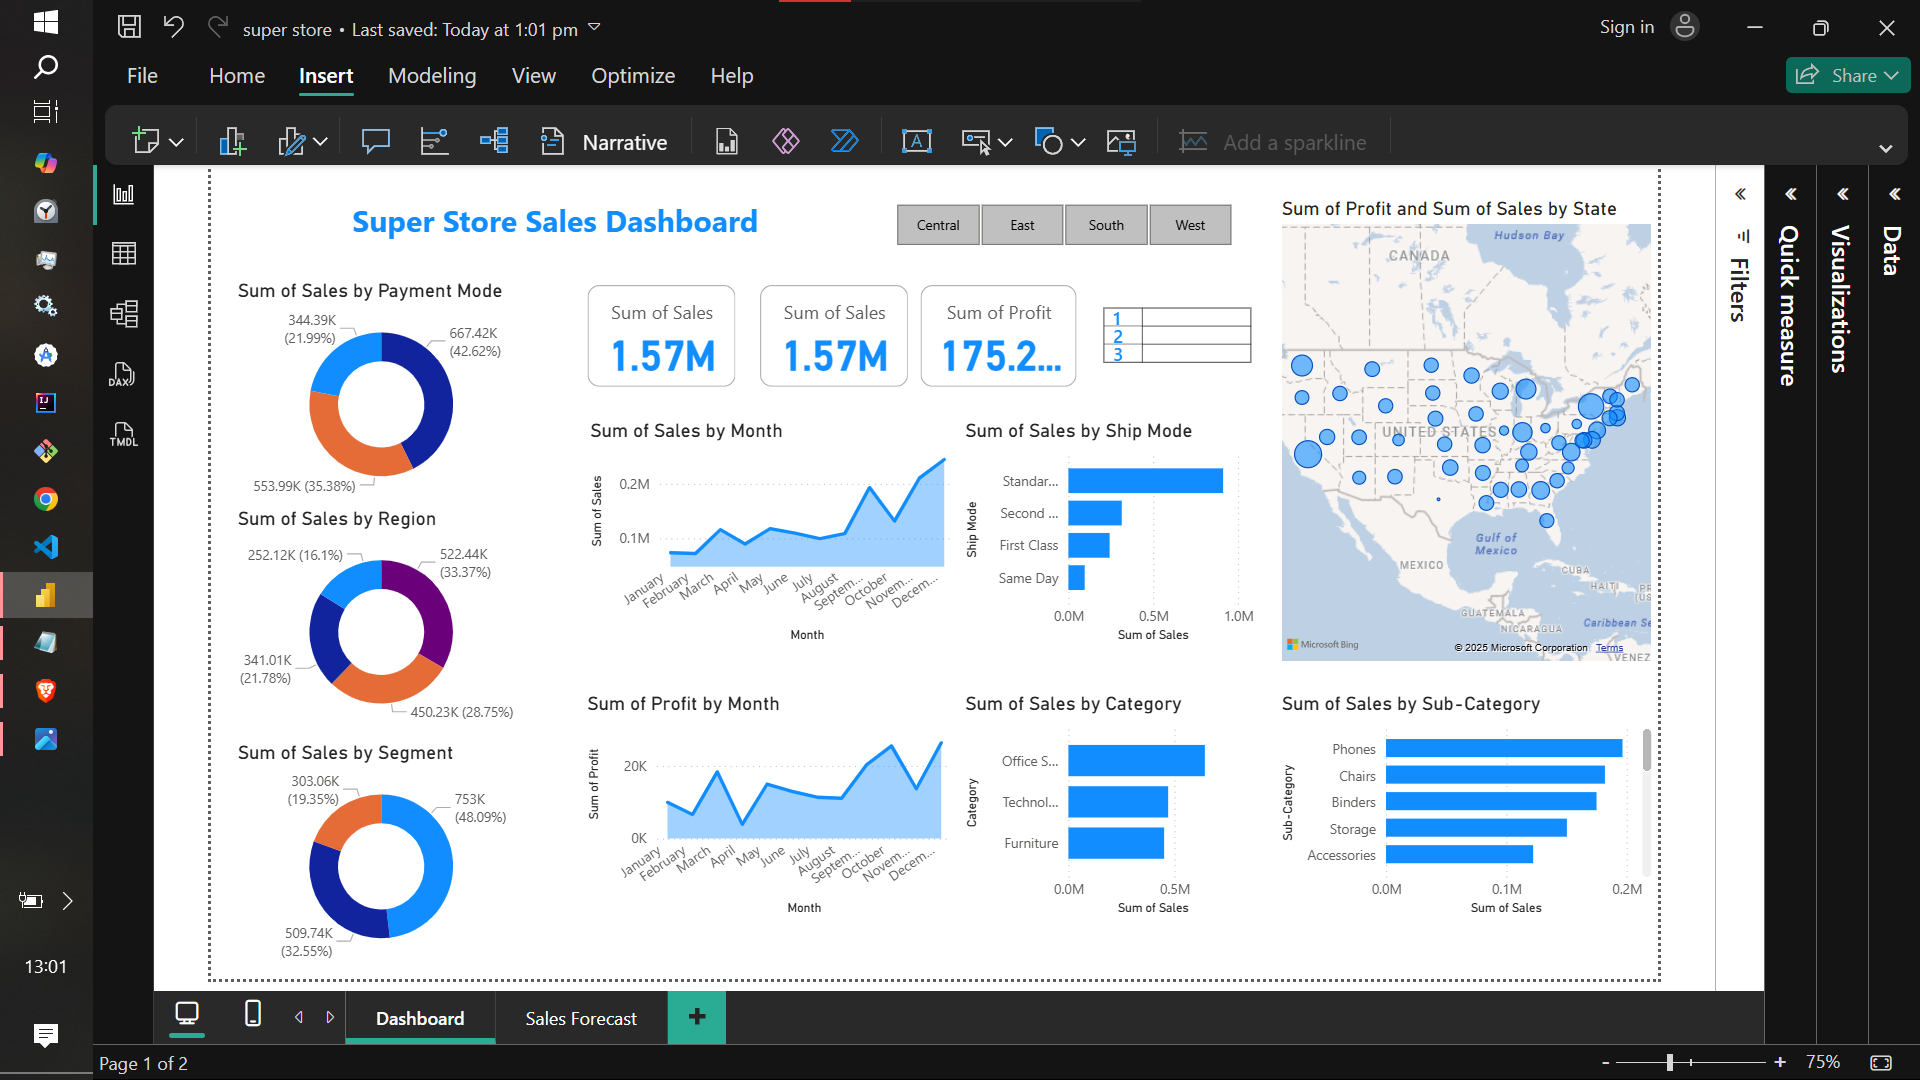

What the dashboard file says about the page in this screenshot:
{"tool":"powerbi","page":{"name":"Dashboard","canvas":[1280,720],"ordinal":0},"visuals":[{"type":"slicer","fields":{"Values":["SuperStore_Sales_Dataset.Region"]},"box":[581.3,27.4,345.4,49.6],"z":1000},{"type":"map","fields":{"Size":["Sum(SuperStore_Sales_Dataset.Profit)"],"Category":["SuperStore_Sales_Dataset.State"]},"box":[942.1,27.5,337.4,416],"z":2000},{"type":"donutChart","fields":{"Y":["Sum(SuperStore_Sales_Dataset.Sales)"],"Category":["SuperStore_Sales_Dataset.Payment Mode"]},"box":[18.8,101.1,263.3,201.7],"z":2001},{"type":"donutChart","fields":{"Category":["SuperStore_Sales_Dataset.Segment"],"Y":["Sum(SuperStore_Sales_Dataset.Sales)"]},"box":[18.8,509.5,263.3,201.7],"z":2003},{"type":"donutChart","fields":{"Y":["Sum(SuperStore_Sales_Dataset.Sales)"],"Category":["SuperStore_Sales_Dataset.Region"]},"box":[18.8,302.8,263.3,201],"z":2004},{"type":"cardVisual","fields":{"Data":["Sum(SuperStore_Sales_Dataset.Sales)"]},"box":[480.4,100.9,141.9,100.9],"z":2006},{"type":"cardVisual","fields":{"Data":["Sum(SuperStore_Sales_Dataset.Sales)"]},"box":[327.7,100.8,142,100.8],"z":2007},{"type":"cardVisual","fields":{"Rows":["SuperStore_Sales_Dataset.Ship Date.Variation.Date Hierarchy.Day"]},"box":[784.1,100.8,142,100.8],"z":2008},{"type":"cardVisual","fields":{"Data":["Sum(SuperStore_Sales_Dataset.Profit)"]},"box":[622.3,100.9,148.7,100.9],"z":2009},{"type":"stackedAreaChart","fields":{"Category":["SuperStore_Sales_Dataset.Order Date.Variation.Date Hierarchy.Month"],"Y":["Sum(SuperStore_Sales_Dataset.Sales)"]},"box":[330,224,331.7,201.7],"z":2010},{"type":"barChart","fields":{"Category":["SuperStore_Sales_Dataset.Ship Mode"],"Y":["Sum(SuperStore_Sales_Dataset.Sales)"]},"box":[661.7,224,265,201.7],"z":2011},{"type":"barChart","fields":{"Category":["SuperStore_Sales_Dataset.Category"],"Y":["Sum(SuperStore_Sales_Dataset.Sales)"]},"box":[661.7,465,265,201.7],"z":2012},{"type":"stackedAreaChart","fields":{"Category":["SuperStore_Sales_Dataset.Order Date.Variation.Date Hierarchy.Month"],"Y":["Sum(SuperStore_Sales_Dataset.Profit)"]},"box":[328.3,465,331.7,201.7],"z":2013},{"type":"barChart","fields":{"Category":["SuperStore_Sales_Dataset.Sub-Category"],"Y":["Sum(SuperStore_Sales_Dataset.Sales)"]},"box":[942.1,465,336.8,201.7],"z":2014},{"type":"textbox","box":[28.3,25.4,553.4,50.7],"z":2015}]}

Visuals, with their boxes on the page's 1280x720 design canvas (x1, y1, x2, y2). These are canvas units, not pixel positions in the 1920x1080 screenshot, which may show the page scaled, cropped or inside an application window:
slicer - SuperStore_Sales_Dataset.Region: [left=581, top=27, right=927, bottom=77]
map - Sum(SuperStore_Sales_Dataset.Profit) x SuperStore_Sales_Dataset.State: [left=942, top=28, right=1280, bottom=444]
donutChart - Sum(SuperStore_Sales_Dataset.Sales) x SuperStore_Sales_Dataset.Payment Mode: [left=19, top=101, right=282, bottom=303]
donutChart - SuperStore_Sales_Dataset.Segment x Sum(SuperStore_Sales_Dataset.Sales): [left=19, top=510, right=282, bottom=711]
donutChart - Sum(SuperStore_Sales_Dataset.Sales) x SuperStore_Sales_Dataset.Region: [left=19, top=303, right=282, bottom=504]
cardVisual - Sum(SuperStore_Sales_Dataset.Sales): [left=480, top=101, right=622, bottom=202]
cardVisual - Sum(SuperStore_Sales_Dataset.Sales): [left=328, top=101, right=470, bottom=202]
cardVisual - SuperStore_Sales_Dataset.Ship Date.Variation.Date Hierarchy.Day: [left=784, top=101, right=926, bottom=202]
cardVisual - Sum(SuperStore_Sales_Dataset.Profit): [left=622, top=101, right=771, bottom=202]
stackedAreaChart - SuperStore_Sales_Dataset.Order Date.Variation.Date Hierarchy.Month x Sum(SuperStore_Sales_Dataset.Sales): [left=330, top=224, right=662, bottom=426]
barChart - SuperStore_Sales_Dataset.Ship Mode x Sum(SuperStore_Sales_Dataset.Sales): [left=662, top=224, right=927, bottom=426]
barChart - SuperStore_Sales_Dataset.Category x Sum(SuperStore_Sales_Dataset.Sales): [left=662, top=465, right=927, bottom=667]
stackedAreaChart - SuperStore_Sales_Dataset.Order Date.Variation.Date Hierarchy.Month x Sum(SuperStore_Sales_Dataset.Profit): [left=328, top=465, right=660, bottom=667]
barChart - SuperStore_Sales_Dataset.Sub-Category x Sum(SuperStore_Sales_Dataset.Sales): [left=942, top=465, right=1279, bottom=667]
textbox: [left=28, top=25, right=582, bottom=76]
